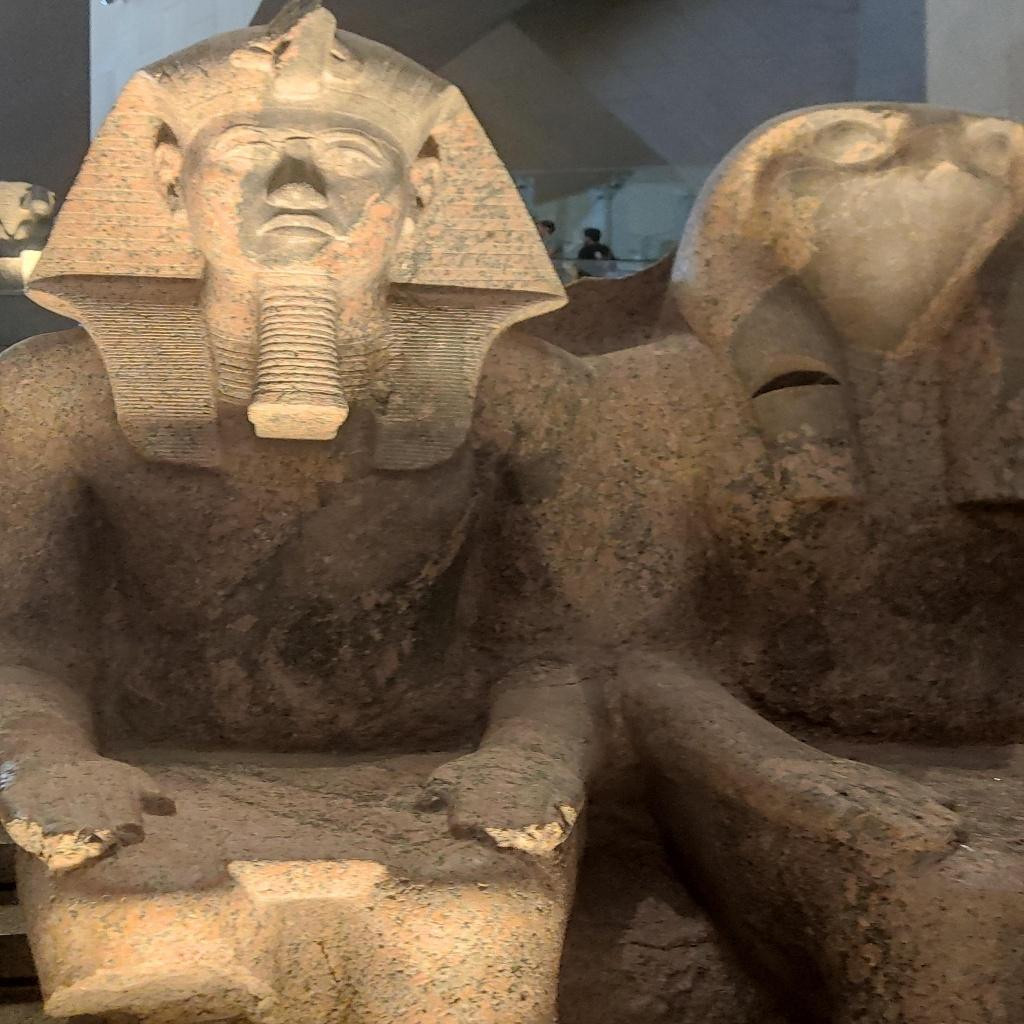Statue of Amenhotep III and God Re-Horakhty: (7, 18, 1024, 1024)
